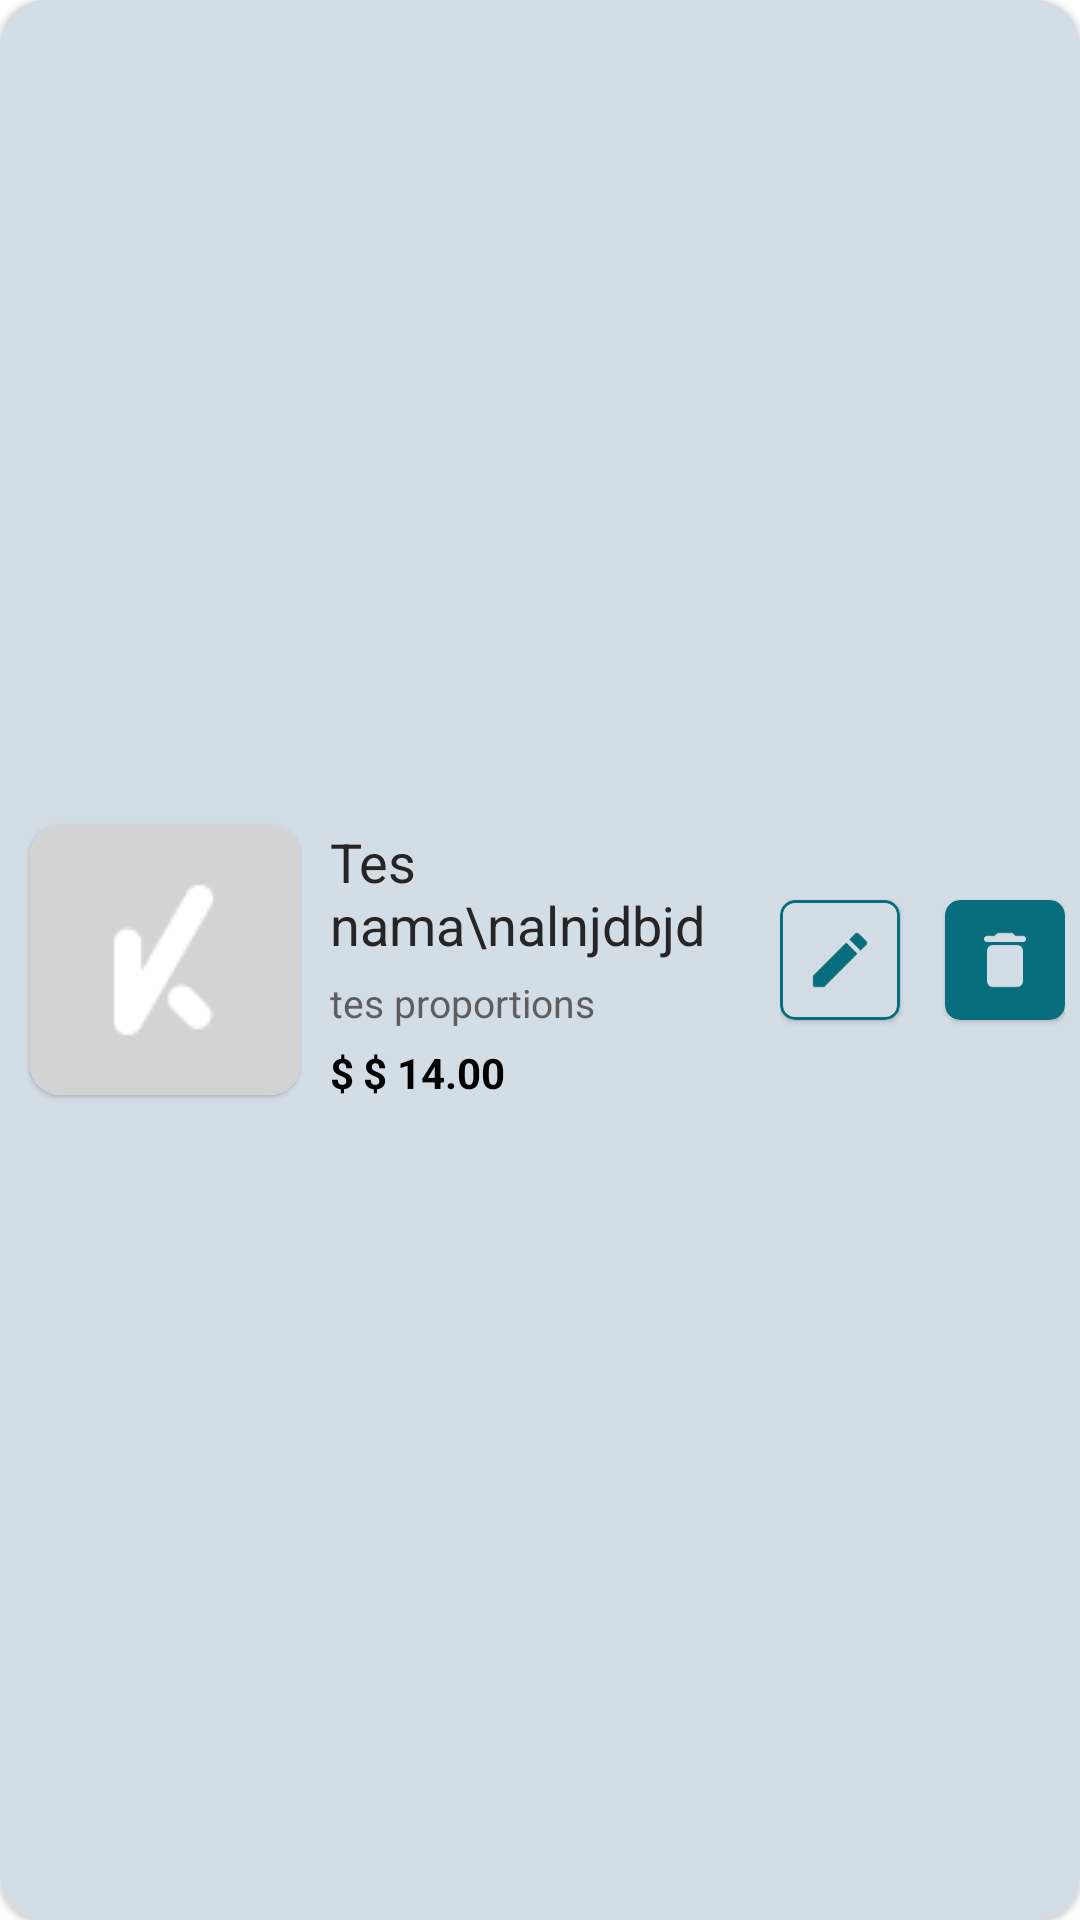

Where to tap for icons on this 1080px x 1920px app screen, as (x=x, y=y):
delete: (x=1005, y=960)
edit: (x=840, y=960)
no photo product: (x=165, y=960)
